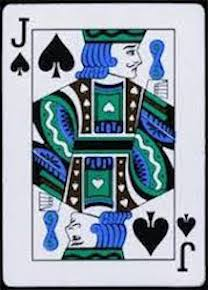JackOfSpades: (3, 3, 207, 290)
